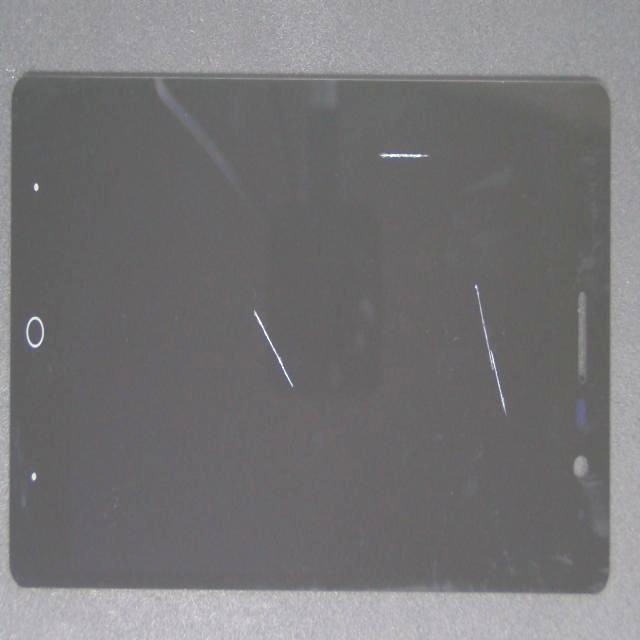scratch: (274, 280, 640, 542), (149, 120, 382, 444), (263, 74, 635, 206)
